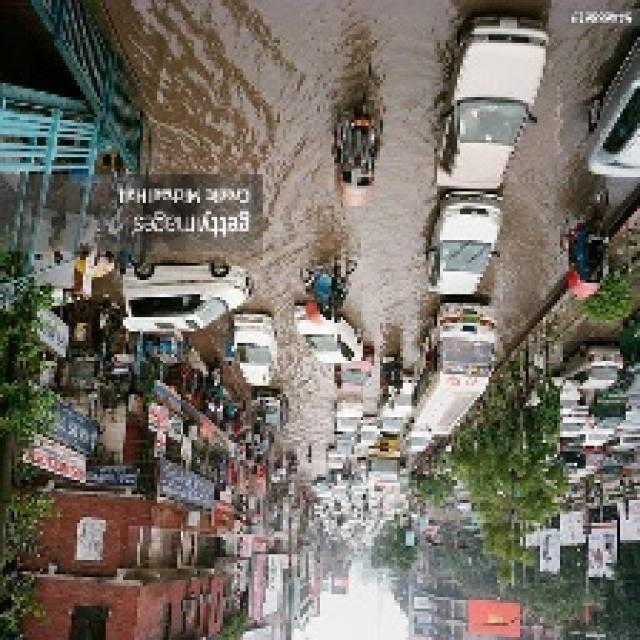car: (432, 24, 532, 199), (116, 261, 253, 331), (580, 41, 640, 187), (428, 188, 493, 302), (289, 303, 362, 364), (231, 308, 277, 388), (559, 338, 613, 395), (250, 389, 292, 435), (335, 350, 371, 397), (373, 404, 406, 437), (335, 400, 364, 433), (579, 420, 611, 449), (403, 424, 434, 453), (355, 419, 383, 446), (558, 407, 585, 434), (333, 434, 359, 458), (325, 448, 345, 471)
rickshaw: (324, 84, 395, 205), (557, 193, 617, 292), (296, 252, 364, 324), (376, 353, 410, 394)
